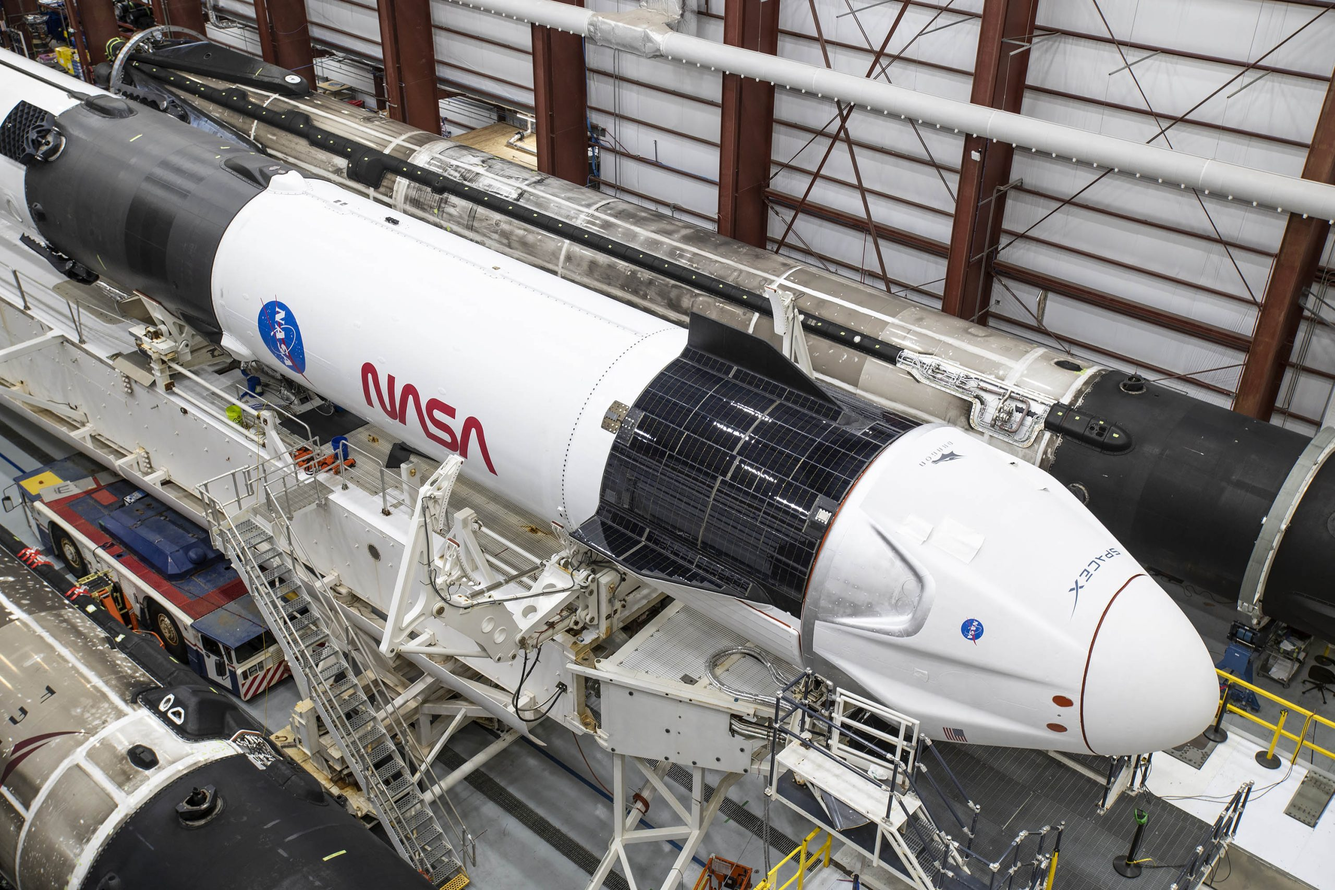falcon: (7, 87, 1221, 792)
